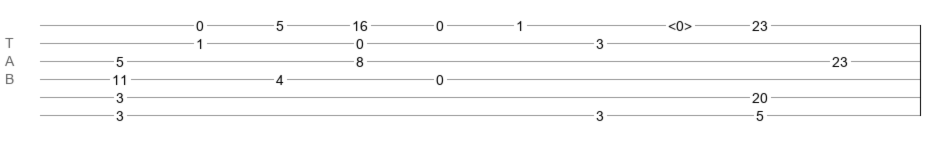0: (196, 18, 204, 28), (356, 36, 364, 46), (436, 18, 444, 28), (436, 72, 444, 82)
1: (196, 36, 204, 46), (516, 18, 524, 28)
11: (112, 72, 128, 82)
16: (352, 18, 368, 28)
20: (752, 90, 768, 100)
23: (752, 18, 768, 28), (832, 54, 848, 64)
3: (116, 108, 124, 118), (116, 90, 124, 100), (596, 108, 604, 118), (596, 36, 604, 46)
4: (276, 72, 284, 82)
5: (116, 54, 124, 64), (276, 18, 284, 28), (756, 108, 764, 118)
8: (356, 54, 364, 64)
harmonic: (668, 18, 692, 28)
